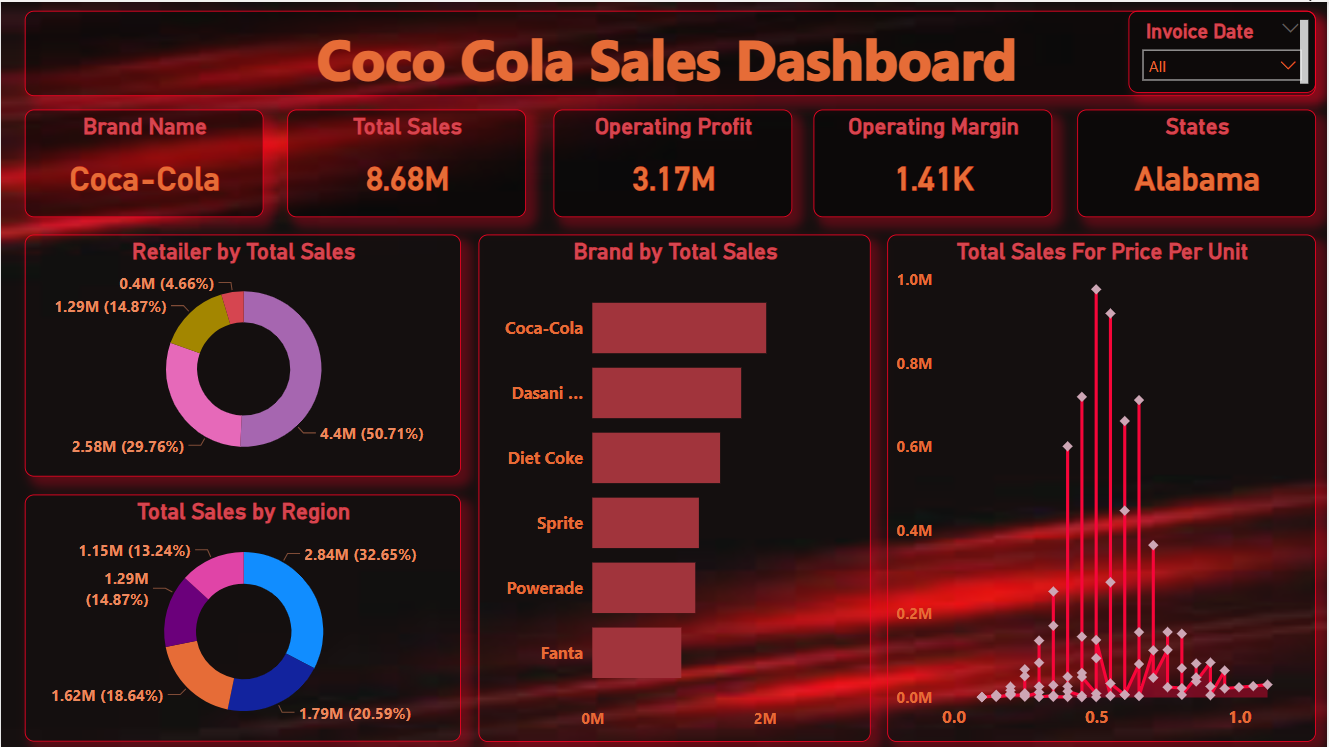

This screenshot's page, from the dashboard's own definition file:
{"tool":"powerbi","page":{"name":"Page 1","canvas":[1280,720],"ordinal":0},"visuals":[{"type":"textbox","box":[22.9,8.4,1245.8,82],"z":0},{"type":"card","title":"Brand Name","fields":{"Values":["Min(Sheet1.Beverage Brand)"]},"box":[22.9,103.7,230.4,103.7],"z":1000},{"type":"card","title":"Total Sales","fields":{"Values":["Sum(Sheet1.Total Sales)"]},"box":[276.2,103.7,230.4,103.7],"z":2000},{"type":"card","title":"Operating Margin","fields":{"Values":["Sum(Sheet1.Operating Margin)"]},"box":[783.9,103.7,230.4,103.7],"z":3000},{"type":"card","title":"States","fields":{"Values":["Min(Sheet1.State)"]},"box":[1038.4,103.7,230.4,103.7],"z":4000},{"type":"card","title":"Operating Profit","fields":{"Values":["Sum(Sheet1.Operating Profit)"]},"box":[533.1,103.7,230.4,103.7],"z":5000},{"type":"slicer","fields":{"Values":["Sheet1.Invoice Date"]},"box":[1087.8,8.4,180.9,79.6],"z":6000},{"type":"donutChart","title":"Retailer by Total Sales","fields":{"Y":["Sum(Sheet1.Total Sales)"],"Category":["Sheet1.Retailer"]},"box":[22.9,224.3,420.9,234],"z":7000},{"type":"clusteredBarChart","title":"Brand by Total Sales ","fields":{"Y":["Sum(Sheet1.Total Sales)"],"Category":["Sheet1.Beverage Brand"]},"box":[460.7,224.3,378.7,489.6],"z":7001},{"type":"donutChart","title":"Total Sales by Region","fields":{"Category":["Sheet1.Region"],"Y":["Sum(Sheet1.Total Sales)"]},"box":[22.9,475.2,420.9,238.8],"z":7002},{"type":"areaChart","title":"Total Sales For Price Per Unit","fields":{"Category":["Sheet1.Price per Unit"],"Y":["Sum(Sheet1.Total Sales)"]},"box":[855.1,224.3,413.7,489.6],"z":7003}]}

Visuals, with their boxes in screenshot pixels (x1, y1, x2, y2), scaled from the page's 1280x720 canvas onto the 1329x747 screenshot:
textbox: 24 9 1317 94
"Brand Name" card: 24 108 263 215
"Total Sales" card: 287 108 526 215
"Operating Margin" card: 814 108 1053 215
"States" card: 1078 108 1317 215
"Operating Profit" card: 554 108 793 215
slicer - Sheet1.Invoice Date: 1129 9 1317 91
"Retailer by Total Sales" donutChart: 24 233 461 475
"Brand by Total Sales " clusteredBarChart: 478 233 872 741
"Total Sales by Region" donutChart: 24 493 461 741
"Total Sales For Price Per Unit" areaChart: 888 233 1317 741
